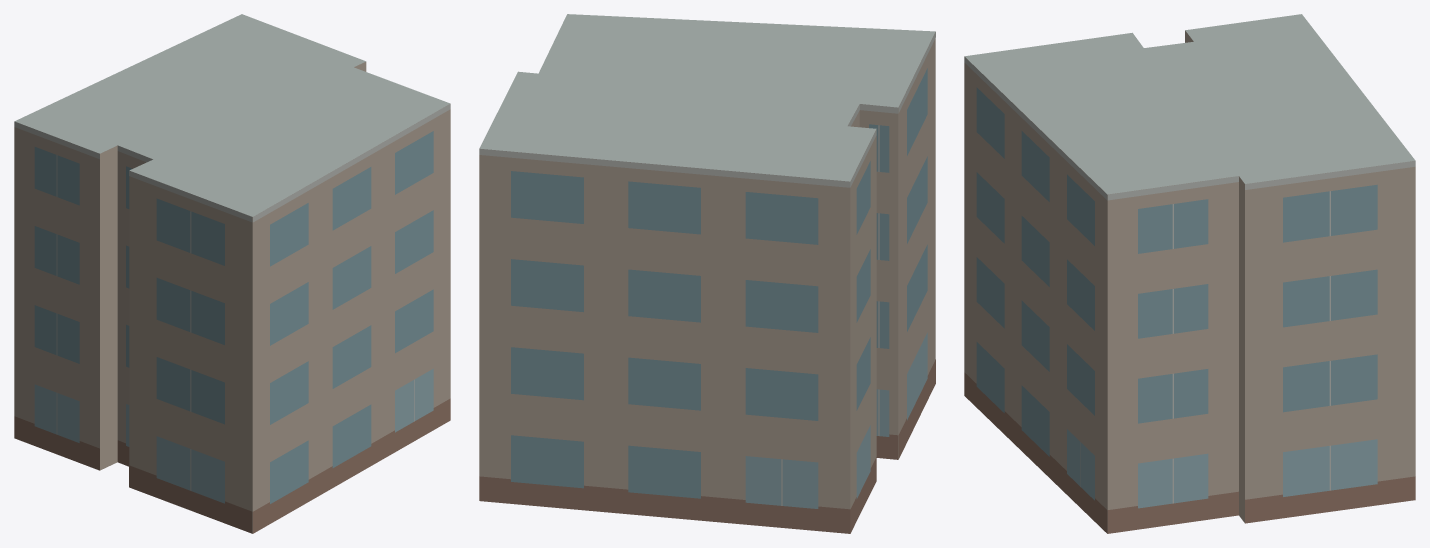
Rendered from survey-upis-32692406.glb.
The picture shows the model from 3 angles, left to right: view 1: azimuth 30°, elevation 25°; view 2: azimuth 150°, elevation 25°; view 3: azimuth 270°, elevation 25°; orthographic projection. The views are drawn at different scales.
Visible parts, largest first — view 1: survey-upis-32692406.tmp; view 2: survey-upis-32692406.tmp; view 3: survey-upis-32692406.tmp.
Part boxes in pixels (x1,y1,x2,y2): survey-upis-32692406.tmp: [14, 14, 450, 533]; survey-upis-32692406.tmp: [479, 14, 935, 533]; survey-upis-32692406.tmp: [964, 14, 1415, 533].
Size of the model in its own units: 15.75 by 13.8 by 16.65.
